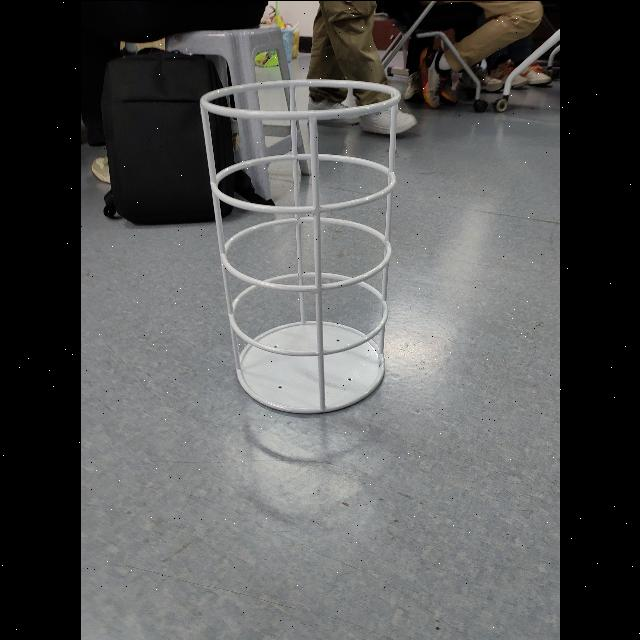S: (194, 74, 402, 420)
